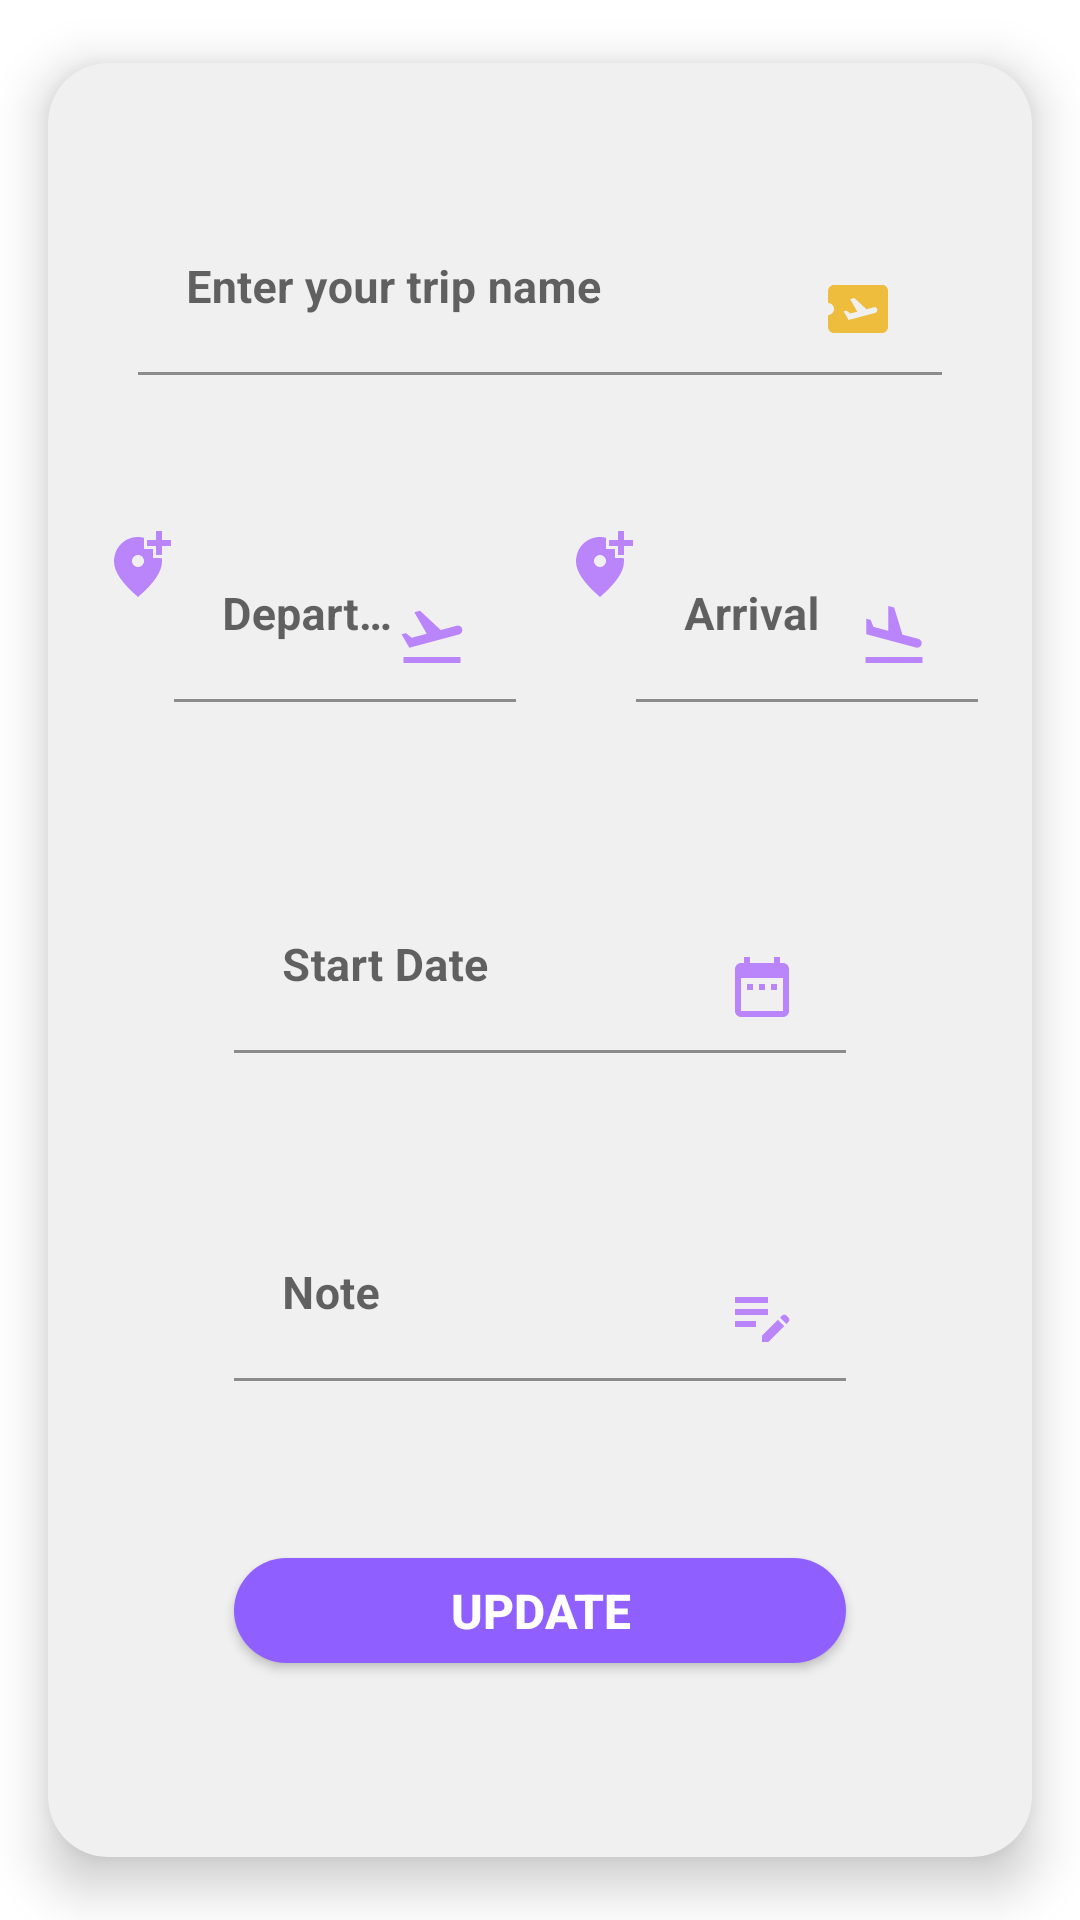

Icons on this 1080px x 1920px Android screen, each with its box as [x1=x1, y1=y1, x2=x2, y2=y2]:
add location: [x1=114, y1=531, x2=171, y2=597], [x1=576, y1=531, x2=633, y2=597]
